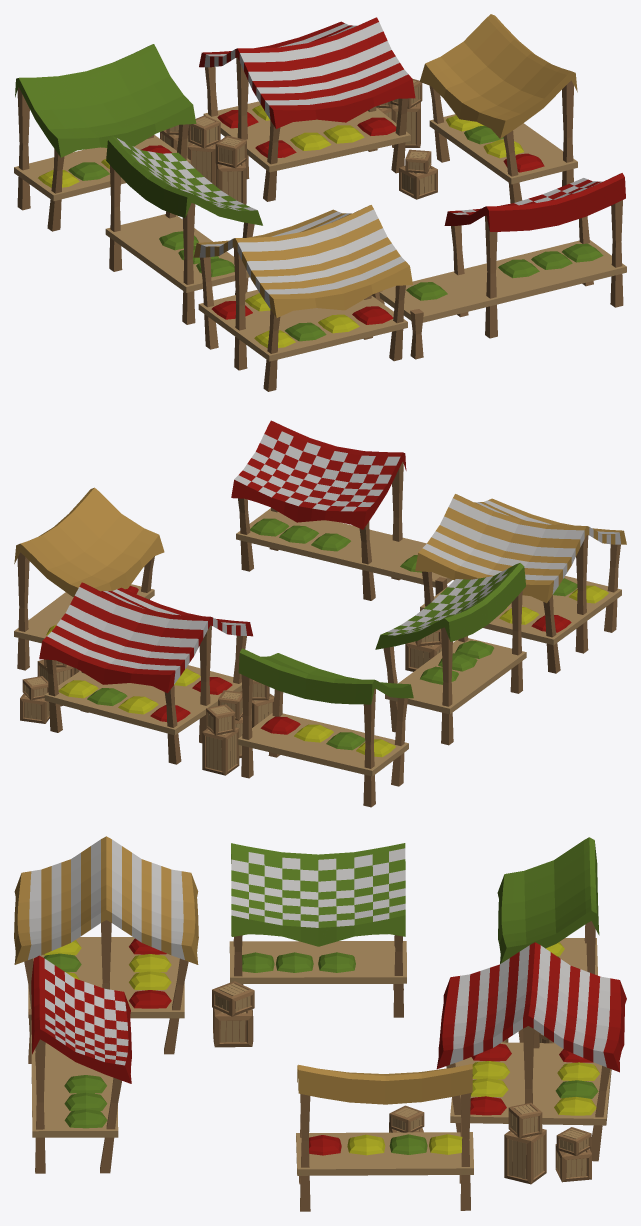
The model's file is village-market.glb.
3 views of the same model, one above another, from view 1: azimuth 30°, elevation 25°; view 2: azimuth 150°, elevation 25°; view 3: azimuth 270°, elevation 25° (orthographic). The views are drawn at different scales.
Visible parts, largest first — view 1: Market_FirstAge_Level3; view 2: Market_FirstAge_Level3; view 3: Market_FirstAge_Level3.
Boxes of the visible parts, x1,y1,x2,y2 form: Market_FirstAge_Level3: (14, 14, 626, 391); Market_FirstAge_Level3: (14, 420, 626, 807); Market_FirstAge_Level3: (14, 836, 626, 1211).
Size of the model in its own units: 1.89 by 0.5526 by 2.11.
Materials: 1 (1 with a texture image).
